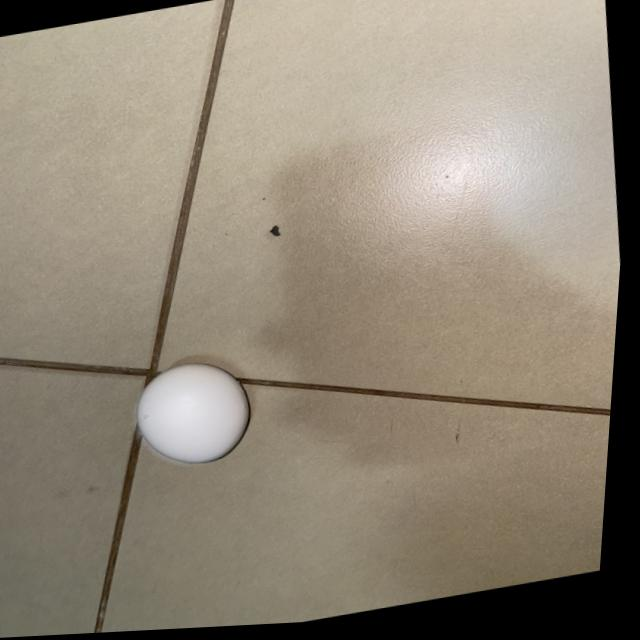egg: (123, 348, 273, 481)
